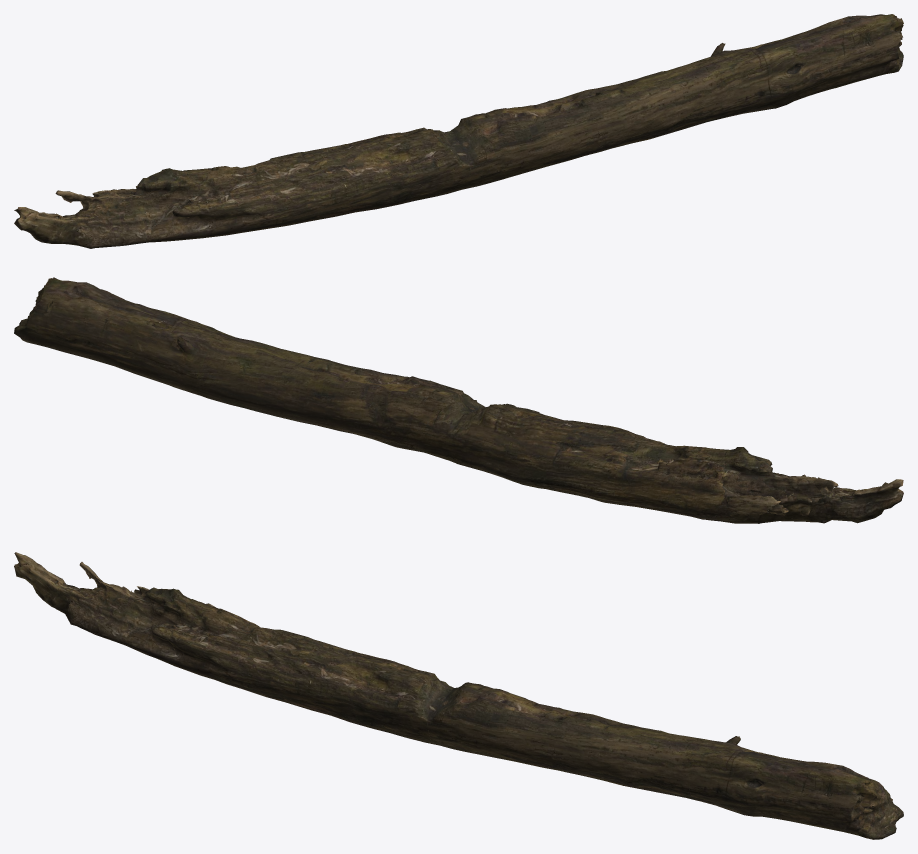
File: dead_tree_trunk.glb
3 views of the same model, one above another, from view 1: azimuth 30°, elevation 25°; view 2: azimuth 150°, elevation 25°; view 3: azimuth 330°, elevation 25° (orthographic).
Parts seen in each view (by area): view 1: dead_tree_trunk; view 2: dead_tree_trunk; view 3: dead_tree_trunk.
Boxes of the visible parts, <box> form: dead_tree_trunk: <box>14,14,903,248</box>; dead_tree_trunk: <box>14,277,903,523</box>; dead_tree_trunk: <box>14,552,903,839</box>.
Size of the model in its own units: 3.05 by 0.2893 by 0.2768.
1 material, 1 textured.
